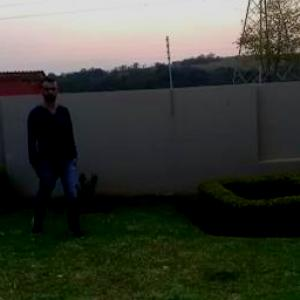follow: (26, 75, 81, 243)
